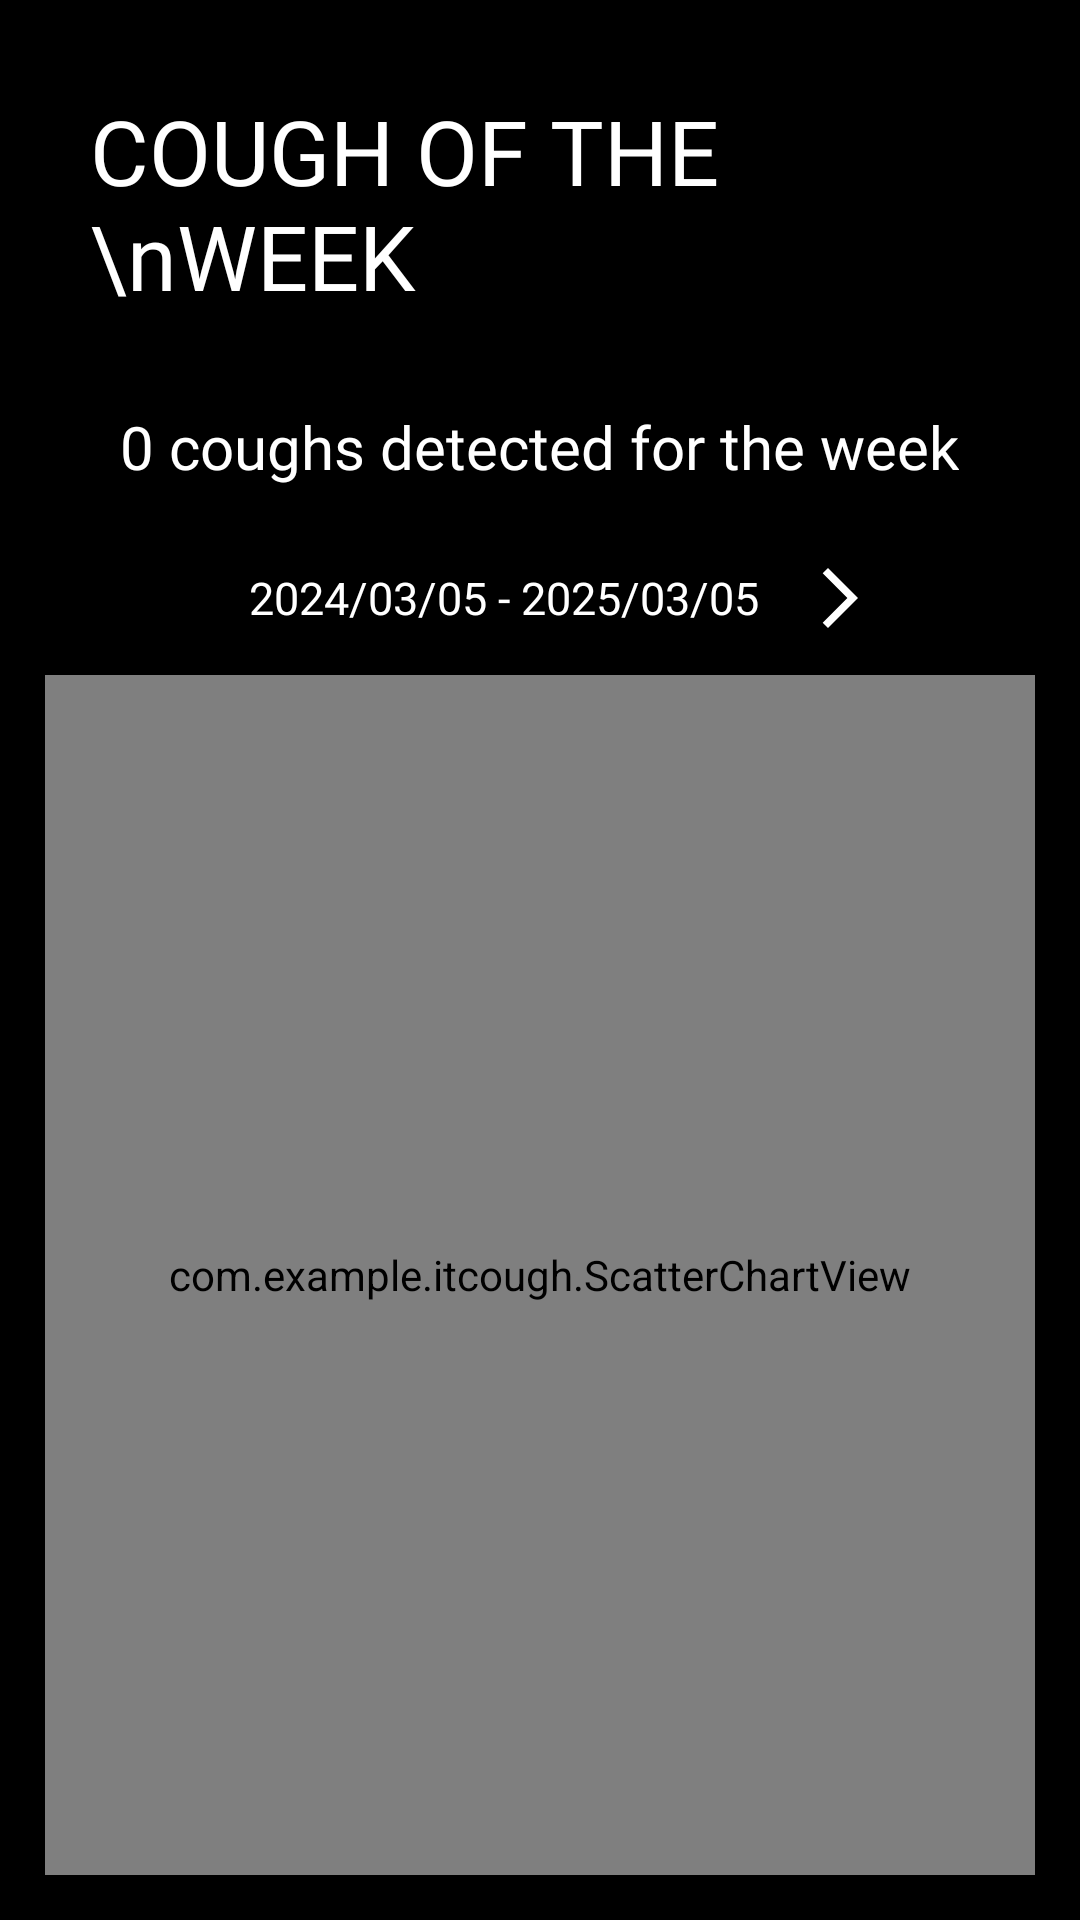

Icons on this 1080 × 1920 Android screen, each with the point to tap as [x,y]:
foward: [840,598]
